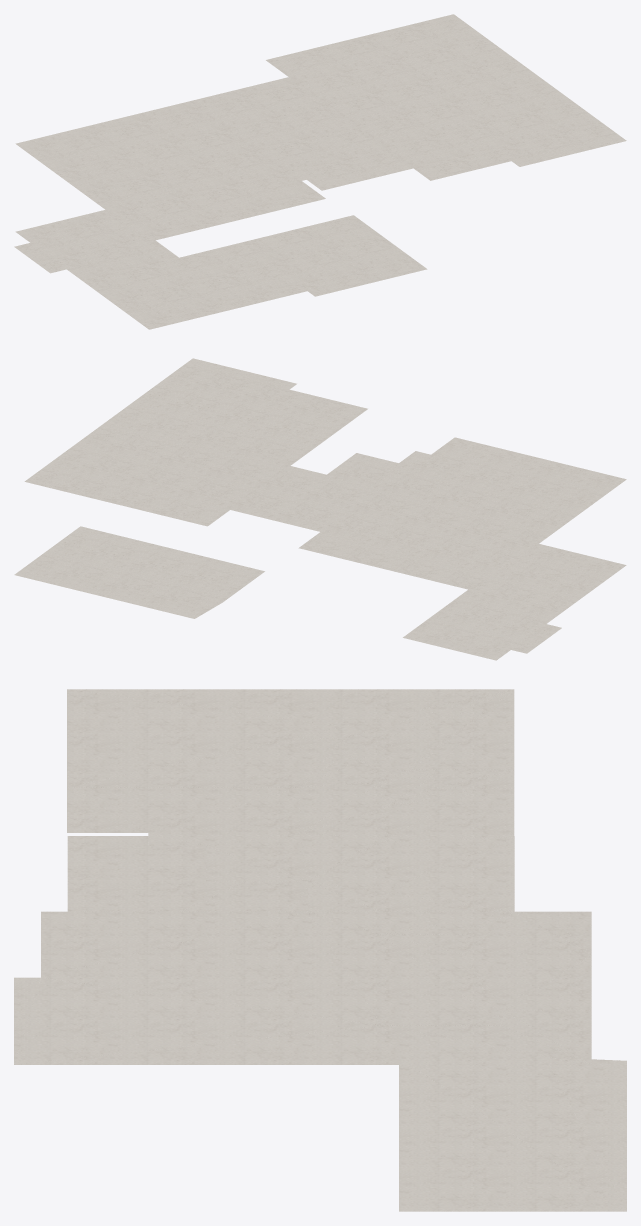
Rendered from Floor_carpet.FBX.
The picture shows the model from 3 angles, top to bottom: view 1: azimuth 30°, elevation 25°; view 2: azimuth 150°, elevation 25°; view 3: azimuth 270°, elevation 25°; orthographic projection. The views are drawn at different scales.
Visible parts, largest first — view 1: Floor01, Floor03, Floor09, Floor11, Floor06, Floor05, Floor08, Floor02, Floor10, Floor04, Floor07, Floor00; view 2: Floor03, Floor01, Floor02, Floor09, Floor11, Floor06, Floor05, Floor08, Floor10, Floor04, Floor07, Floor00; view 3: Floor03, Floor02, Floor09, Floor11, Floor06, Floor05, Floor08, Floor01, Floor10, Floor04, Floor07.
Part boxes in pixels (left/top/right/bottom): Floor01: left=14, top=210, right=427, bottom=329; Floor03: left=329, top=60, right=626, bottom=180; Floor09: left=67, top=161, right=269, bottom=241; Floor11: left=127, top=106, right=349, bottom=180; Floor06: left=198, top=47, right=356, bottom=128; Floor05: left=319, top=30, right=467, bottom=99; Floor08: left=15, top=114, right=160, bottom=181; Floor02: left=300, top=122, right=412, bottom=190; Floor10: left=200, top=147, right=325, bottom=212; Floor04: left=387, top=14, right=516, bottom=71; Floor07: left=137, top=99, right=237, bottom=144; Floor00: left=222, top=234, right=302, bottom=267; Floor03: left=86, top=358, right=367, bottom=481; Floor01: left=298, top=532, right=626, bottom=660; Floor02: left=14, top=526, right=264, bottom=618; Floor09: left=442, top=451, right=626, bottom=538; Floor11: left=269, top=451, right=499, bottom=524; Floor06: left=156, top=475, right=356, bottom=531; Floor05: left=89, top=448, right=240, bottom=513; Floor08: left=378, top=520, right=545, bottom=574; Floor10: left=387, top=437, right=509, bottom=500; Floor04: left=24, top=437, right=132, bottom=497; Floor07: left=319, top=503, right=429, bottom=545; Floor00: left=375, top=551, right=447, bottom=579; Floor03: left=14, top=911, right=380, bottom=1064; Floor02: left=399, top=1059, right=626, bottom=1211; Floor09: left=67, top=689, right=343, bottom=787; Floor11: left=148, top=738, right=396, bottom=911; Floor06: left=381, top=837, right=591, bottom=954; Floor05: left=381, top=934, right=591, bottom=1025; Floor08: left=343, top=689, right=514, bottom=788; Floor01: left=67, top=836, right=514, bottom=911; Floor10: left=67, top=787, right=299, bottom=832; Floor04: left=381, top=1010, right=591, bottom=1064; Floor07: left=381, top=769, right=514, bottom=837.
Bounding box in the file's own units: 1517 × 267 × 1010.
